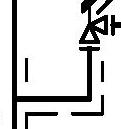psv: (78, 1, 110, 50)
